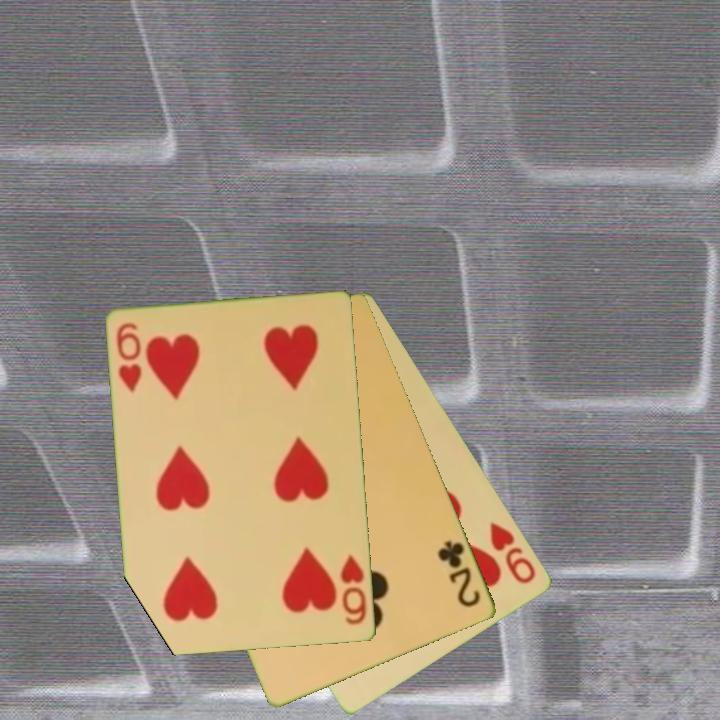2c: (435, 537, 484, 611)
6h: (337, 552, 370, 628), (113, 319, 145, 396)
9h: (486, 518, 540, 587)
